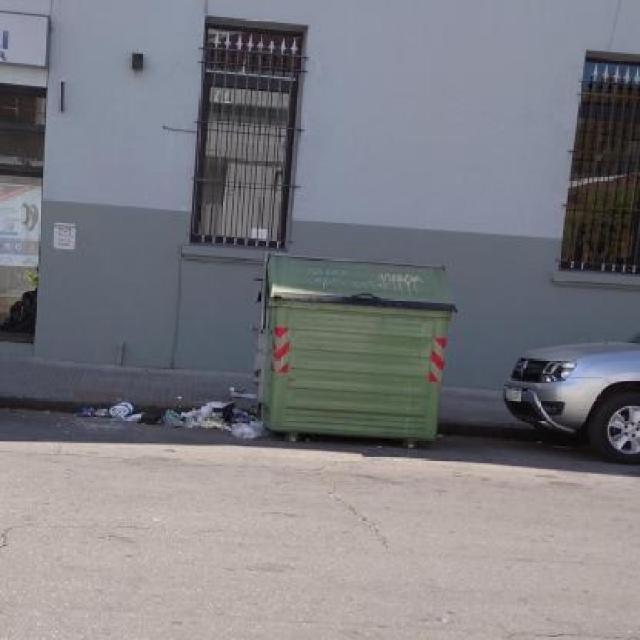garbage: (69, 381, 286, 446)
